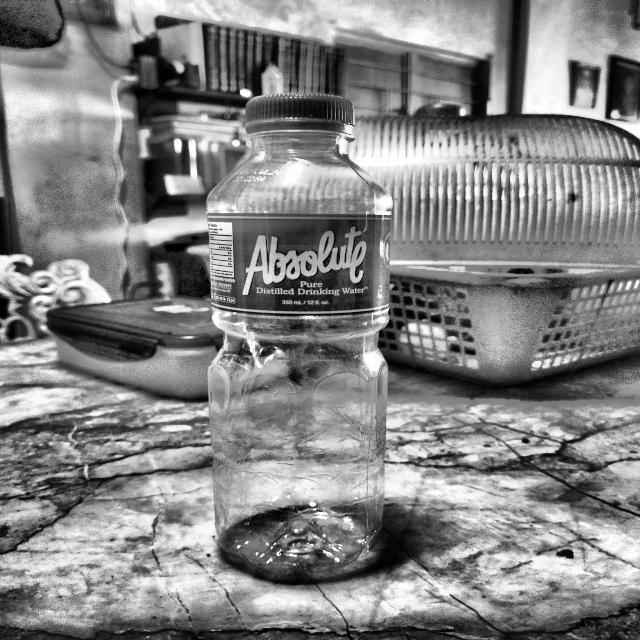Plastic-Bottle: (204, 92, 394, 576)
